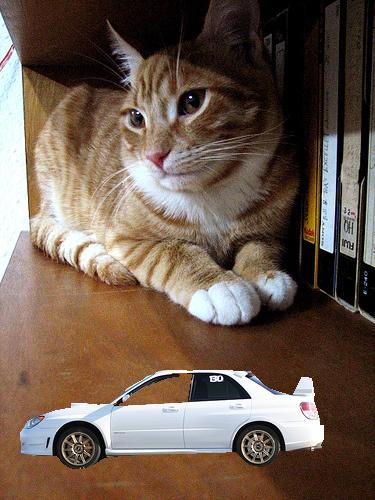tampered: (21, 371, 324, 469)
